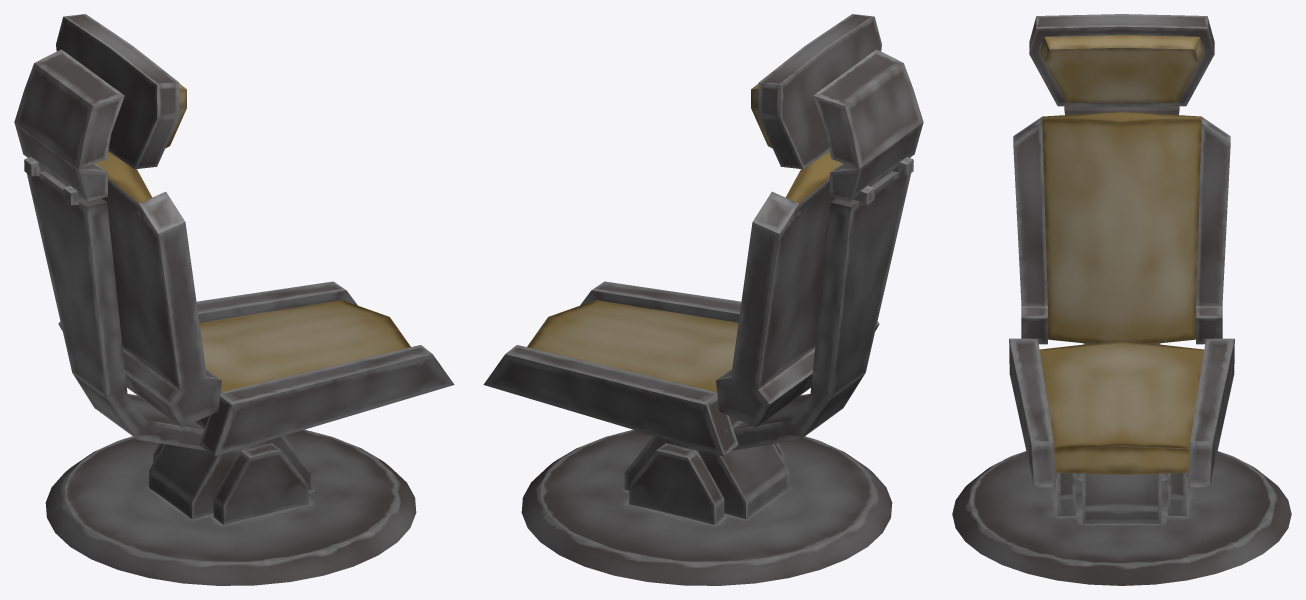
The model's file is cockpit_chair.glb.
The picture shows the model from 3 angles, left to right: view 1: azimuth 30°, elevation 25°; view 2: azimuth 150°, elevation 25°; view 3: azimuth 270°, elevation 25°; orthographic projection. The views are drawn at different scales.
Parts seen in each view (by area): view 1: Cube.001, Circle; view 2: Cube.001, Circle; view 3: Cube.001, Circle.
Part boxes in pixels (x1,y1,x2,y2): Cube.001: [14, 14, 454, 524]; Circle: [45, 429, 416, 585]; Cube.001: [483, 14, 923, 524]; Circle: [521, 429, 892, 585]; Cube.001: [1009, 14, 1234, 523]; Circle: [952, 451, 1291, 585].
Size of the model in its own units: 1.28 by 1.65 by 1.14.
Materials: 1 (1 with a texture image).
